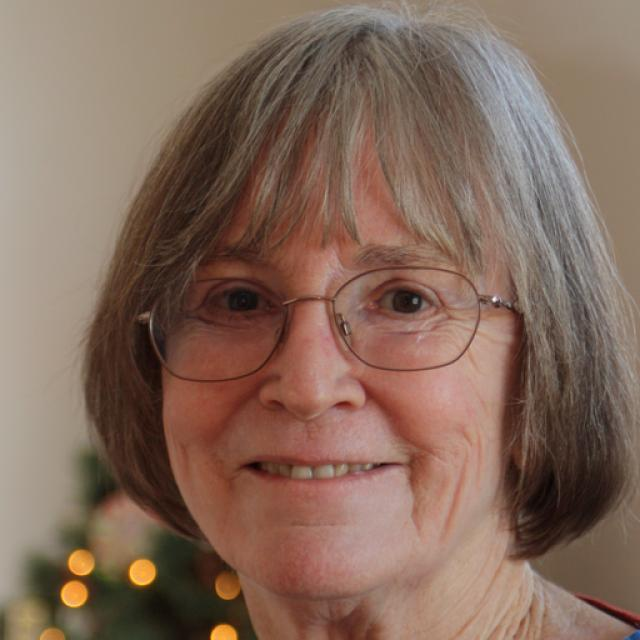happy: (150, 120, 515, 601)
